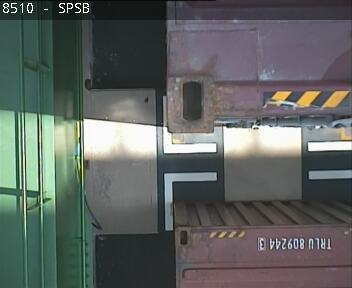groundmarker_1: (160, 95, 218, 231)
